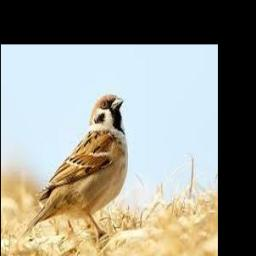Sparrow: (22, 95, 127, 239)
